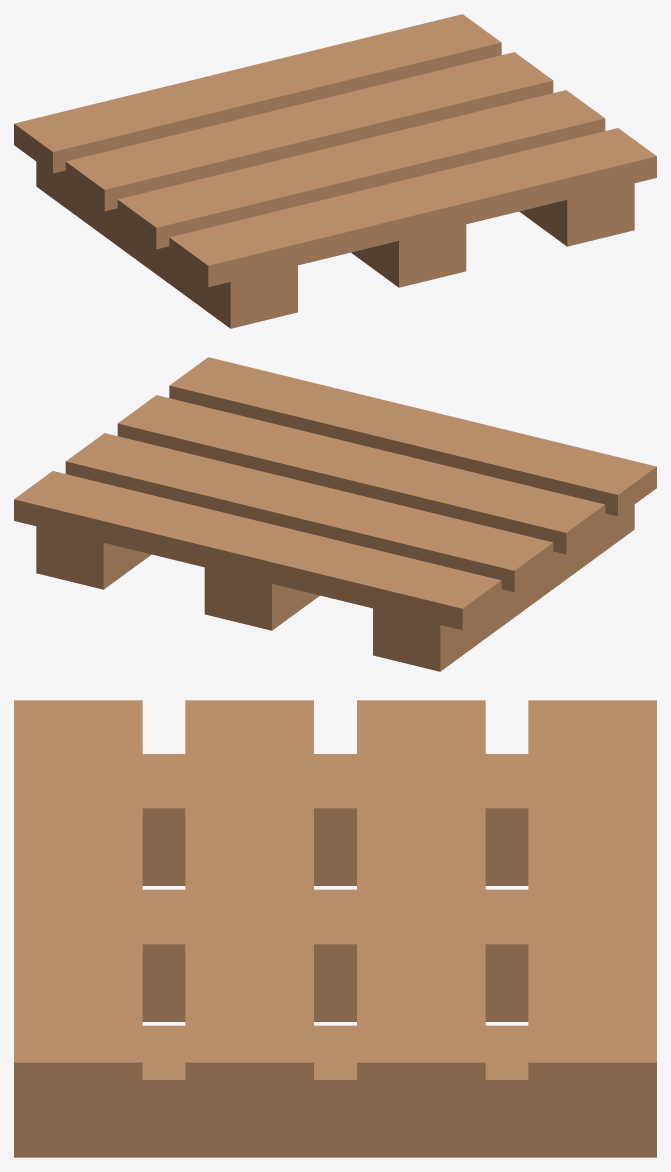
The model's file is slatted-wooden-pallet.glb.
3 views of the same model, one above another, from view 1: azimuth 30°, elevation 25°; view 2: azimuth 150°, elevation 25°; view 3: azimuth 270°, elevation 25° (orthographic). The views are drawn at different scales.
Visible parts, largest first — view 1: copper; view 2: copper; view 3: copper.
Boxes of the visible parts, x1,y1,x2,y2 form: copper: (14,14,656,328); copper: (14,357,656,671); copper: (14,700,656,1157).
Bounding box in the file's own units: 1.2 × 0.1751 × 0.9.
